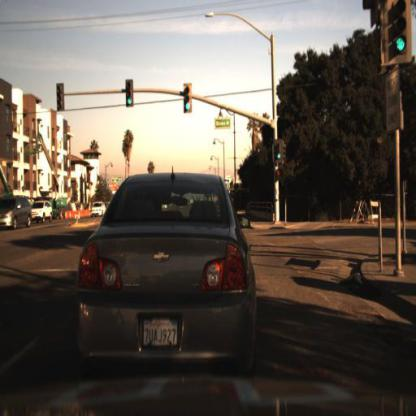car: (70, 154, 264, 400), (2, 196, 31, 232), (30, 198, 54, 226), (32, 196, 55, 225), (87, 194, 108, 223)
trafficLight: (181, 79, 193, 116), (53, 81, 65, 112), (123, 74, 133, 108)
trafficLight-Green: (381, 1, 416, 77), (275, 132, 289, 170)
